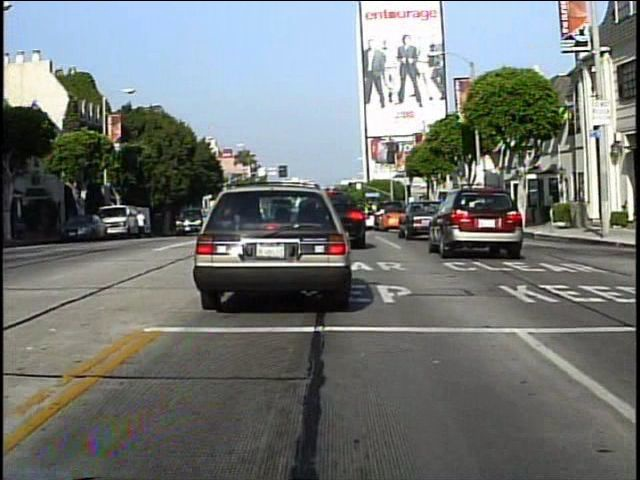person: (135, 206, 148, 241)
